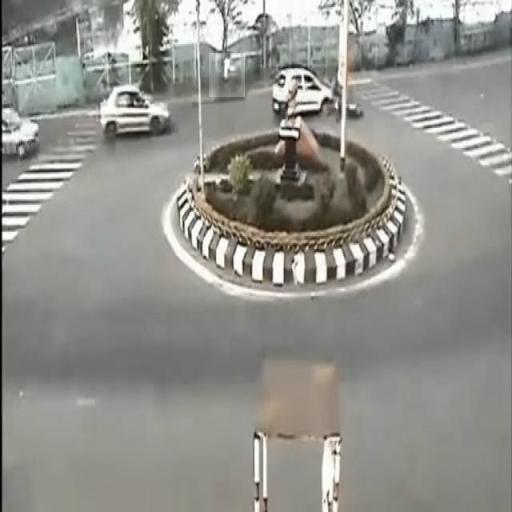小汽车: (101, 86, 176, 140)
小汽车撞自行车: (270, 60, 361, 120)
自行车: (209, 53, 245, 97)
